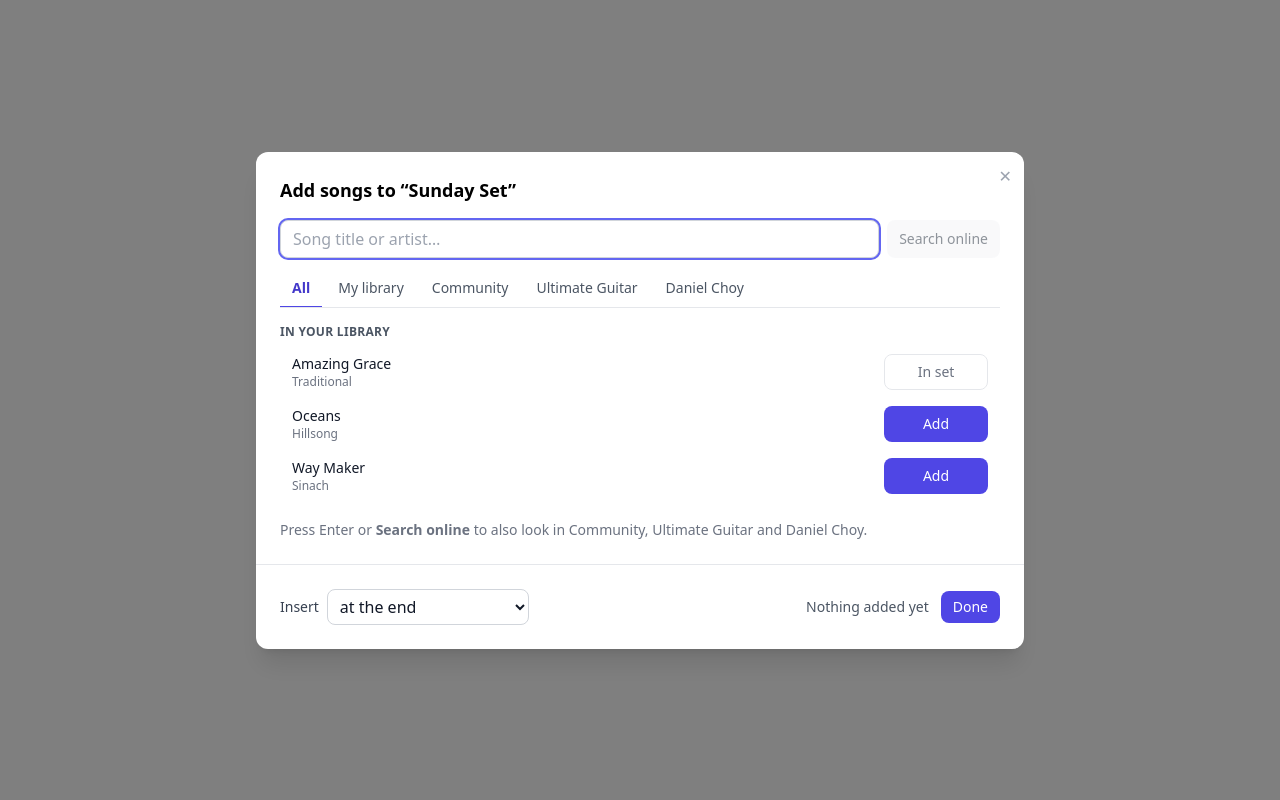
Test: AddSongsModal: library › filters library songs as you type
Type "ocean" into the field named "search".
click(580, 238); type("ocean")  # box [280,220,879,258]
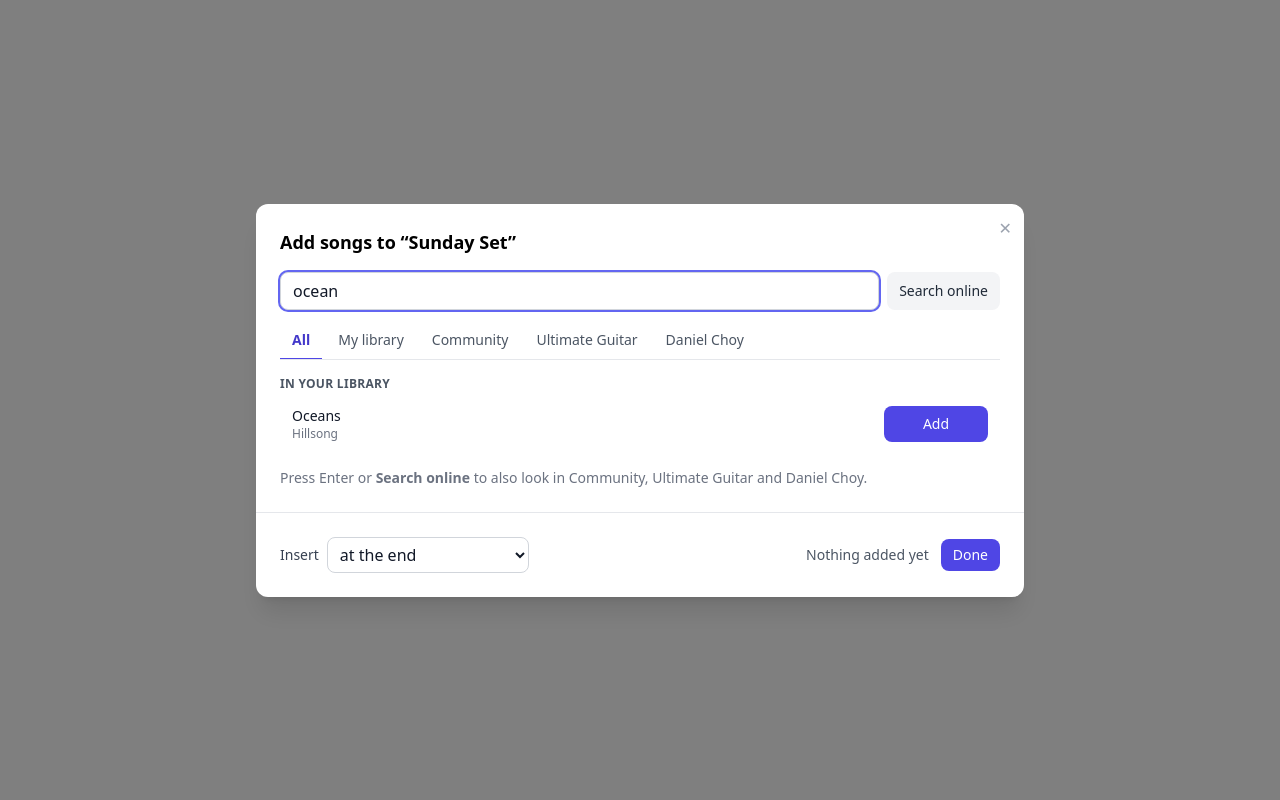
expect the button with aria-label "Add Oceans" is shown: met, box [884,406,988,442]
expect the list "Add Way Maker" is gone: met
